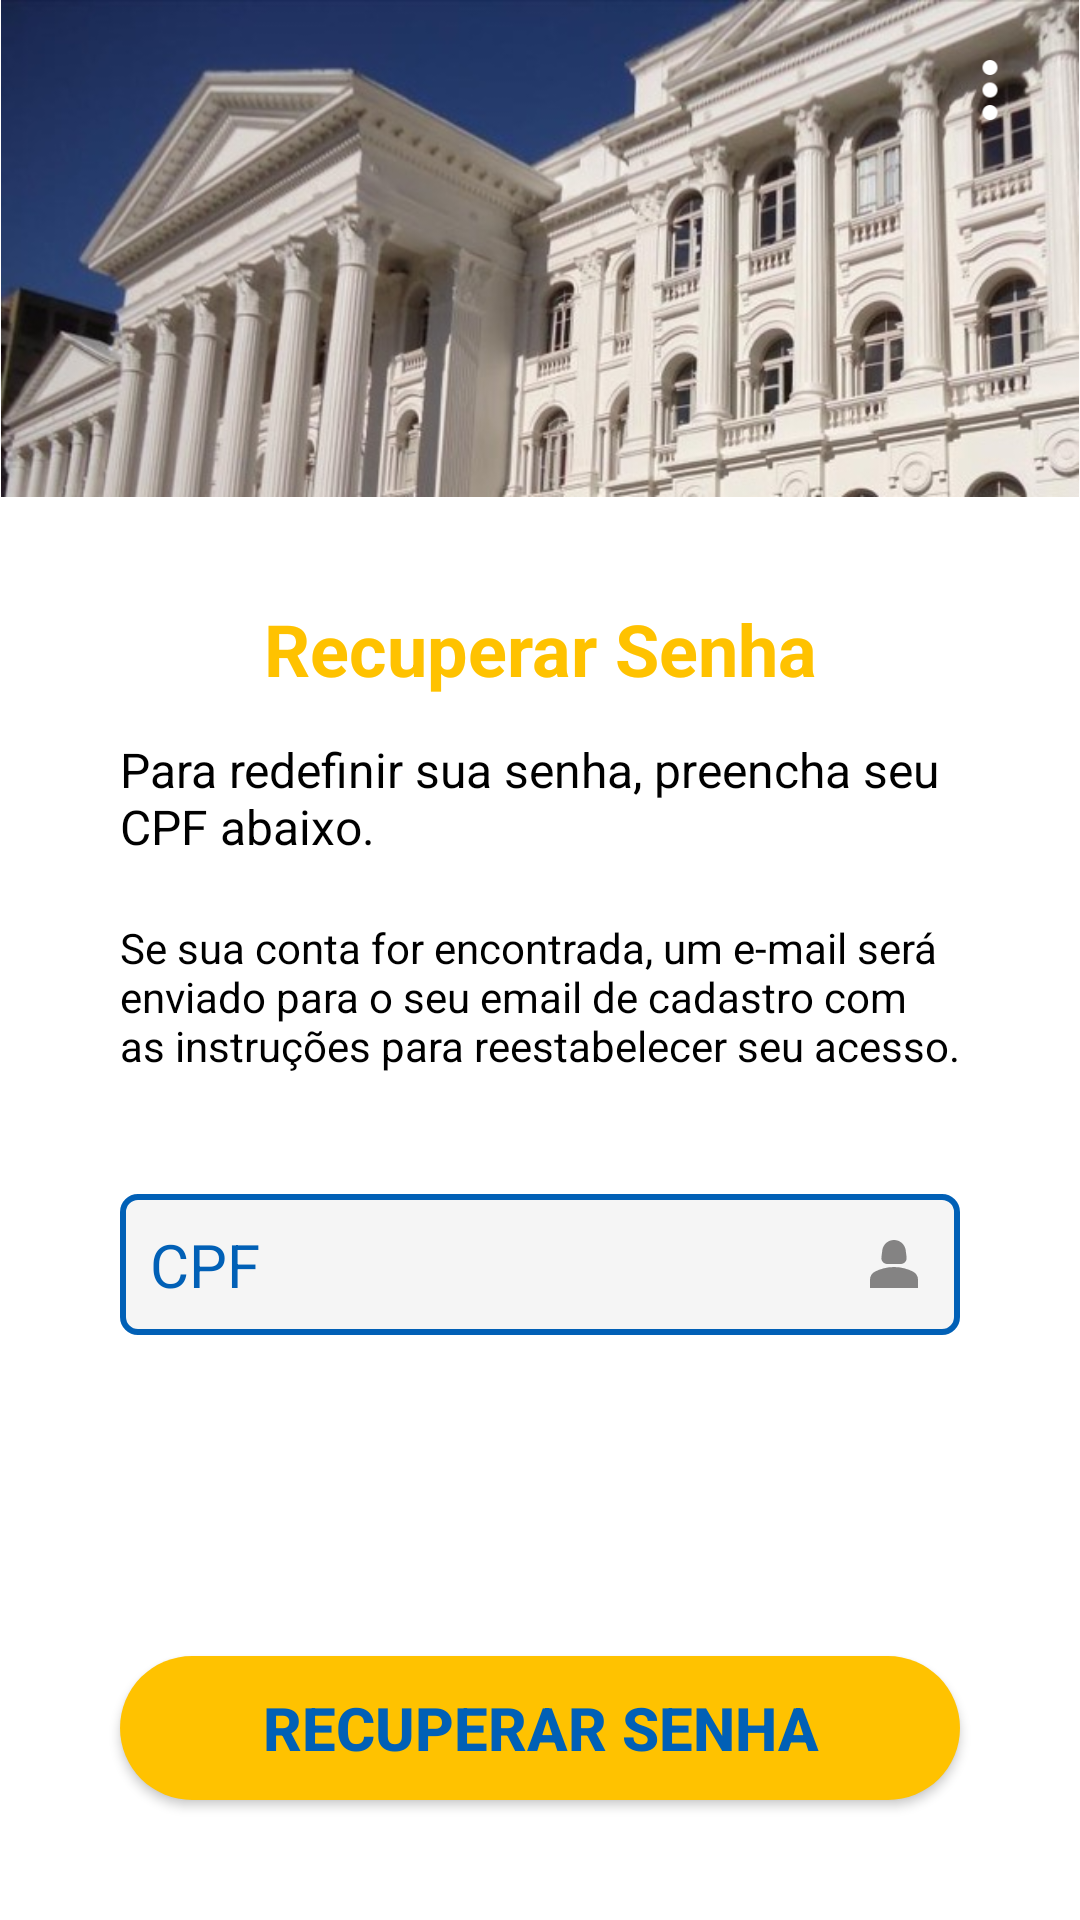

Icons on this 1080*1920 Android screen, each with the point to tap as (x=x, y=y):
menuopcoesbranco: (x=990, y=90)
